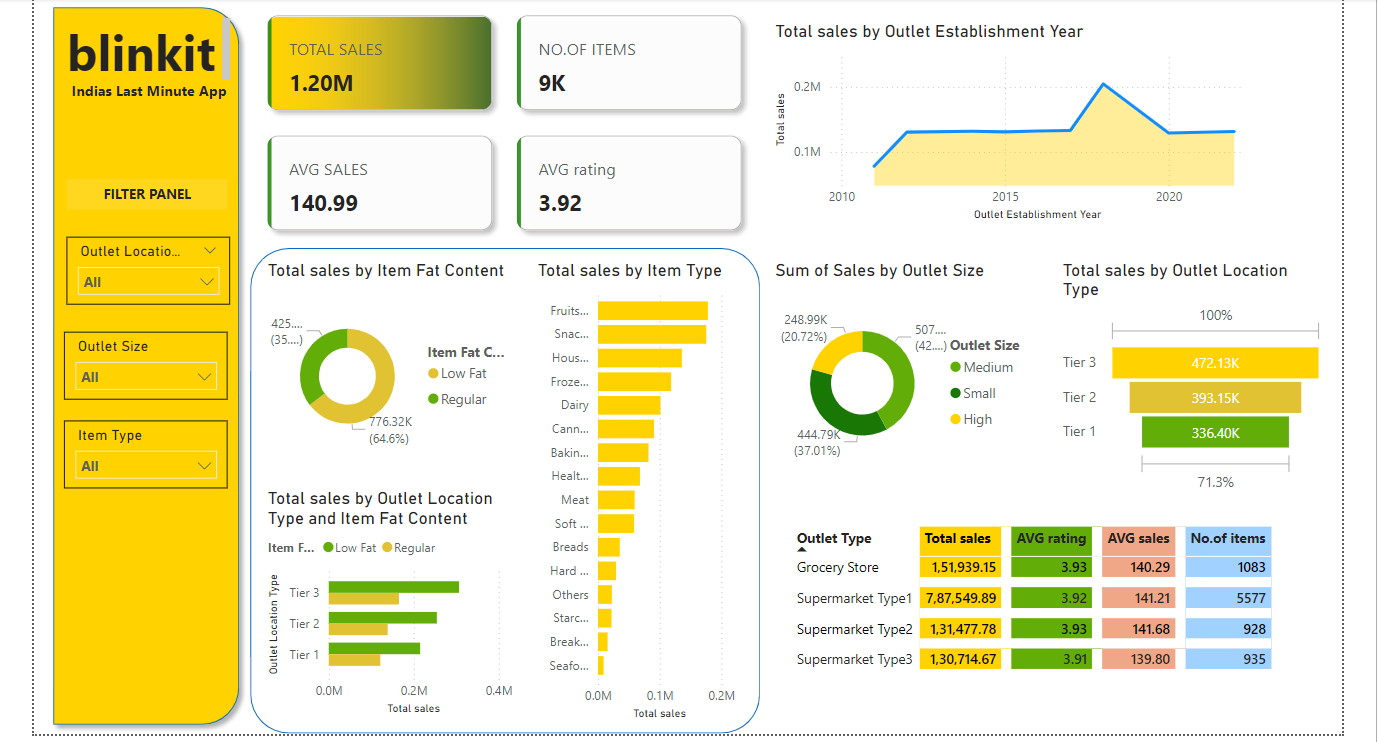

Layout of this report page (visuals, bound fields, positions):
{"tool":"powerbi","page":{"name":"Page 1","canvas":[1280,720],"ordinal":0},"visuals":[{"type":"shape","box":[10,0,200,720],"z":0},{"type":"textbox","box":[21.2,15,176.2,72.5],"z":1000},{"type":"textbox","box":[31.2,76.2,166.2,46.2],"z":2000},{"type":"cardVisual","fields":{"Data":["BlinkIT Grocery Data.Total sales","BlinkIT Grocery Data.No.of items","BlinkIT Grocery Data.AVG sales","BlinkIT Grocery Data.AVG rating"]},"box":[211.2,0,498.8,245],"z":3000},{"type":"shape","box":[211.2,245,498.8,475],"z":4000},{"type":"donutChart","fields":{"Y":["BlinkIT Grocery Data.Total sales"],"Category":["BlinkIT Grocery Data.Item Fat Content"]},"box":[223.8,255,250,210],"z":5000},{"type":"clusteredBarChart","fields":{"Category":["BlinkIT Grocery Data.Outlet Location Type"],"Y":["BlinkIT Grocery Data.Total sales"],"Series":["BlinkIT Grocery Data.Item Fat Content"]},"box":[223.8,478.8,250,226.2],"z":6000},{"type":"barChart","fields":{"Y":["BlinkIT Grocery Data.Total sales"],"Category":["BlinkIT Grocery Data.Item Type"]},"box":[487.5,255,203.8,455],"z":7000},{"type":"donutChart","fields":{"Y":["Sum(BlinkIT Grocery Data.Sales)"],"Category":["BlinkIT Grocery Data.Outlet Size"]},"box":[720.2,255.6,266.6,223.8],"z":8000},{"type":"lineChart","fields":{"Y":["BlinkIT Grocery Data.Total sales"],"Category":["BlinkIT Grocery Data.Outlet Establishment Year"]},"box":[720.2,22,472,200.5],"z":9000},{"type":"funnel","fields":{"Y":["BlinkIT Grocery Data.Total sales"],"Category":["BlinkIT Grocery Data.Outlet Location Type"]},"box":[1001.5,255.6,265.4,232.3],"z":10000},{"type":"pivotTable","fields":{"Rows":["BlinkIT Grocery Data.Outlet Type"],"Values":["BlinkIT Grocery Data.Total sales","BlinkIT Grocery Data.AVG rating","BlinkIT Grocery Data.AVG sales","BlinkIT Grocery Data.No.of items"]},"box":[736.1,512.4,502.6,160.2],"z":11000},{"type":"slicer","fields":{"Values":["BlinkIT Grocery Data.Outlet Location Type"]},"box":[31.8,233.6,160.2,66],"z":11001},{"type":"slicer","fields":{"Values":["BlinkIT Grocery Data.Outlet Size"]},"box":[29.3,326.5,160.2,66],"z":11002},{"type":"slicer","fields":{"Values":["BlinkIT Grocery Data.Item Type"]},"box":[29.3,413.3,160.2,66],"z":11003},{"type":"textbox","box":[31.8,177.3,157.7,29.3],"z":11004}]}

Visuals, with their boxes in screenshot pixels (x1, y1, x2, y2):
shape: [32, 14, 235, 741]
textbox: [43, 30, 222, 103]
textbox: [53, 92, 222, 139]
cardVisual - BlinkIT Grocery Data.Total sales x BlinkIT Grocery Data.No.of items: [236, 14, 744, 264]
shape: [236, 264, 744, 741]
donutChart - BlinkIT Grocery Data.Total sales x BlinkIT Grocery Data.Item Fat Content: [249, 274, 504, 487]
clusteredBarChart - BlinkIT Grocery Data.Outlet Location Type x BlinkIT Grocery Data.Total sales: [249, 502, 504, 732]
barChart - BlinkIT Grocery Data.Total sales x BlinkIT Grocery Data.Item Type: [518, 274, 725, 737]
donutChart - Sum(BlinkIT Grocery Data.Sales) x BlinkIT Grocery Data.Outlet Size: [754, 274, 1026, 502]
lineChart - BlinkIT Grocery Data.Total sales x BlinkIT Grocery Data.Outlet Establishment Year: [754, 37, 1235, 241]
funnel - BlinkIT Grocery Data.Total sales x BlinkIT Grocery Data.Outlet Location Type: [1040, 274, 1311, 511]
pivotTable - BlinkIT Grocery Data.Outlet Type x BlinkIT Grocery Data.Total sales: [770, 536, 1282, 699]
slicer - BlinkIT Grocery Data.Outlet Location Type: [54, 252, 217, 319]
slicer - BlinkIT Grocery Data.Outlet Size: [51, 347, 214, 414]
slicer - BlinkIT Grocery Data.Item Type: [51, 435, 214, 502]
textbox: [54, 195, 214, 225]
